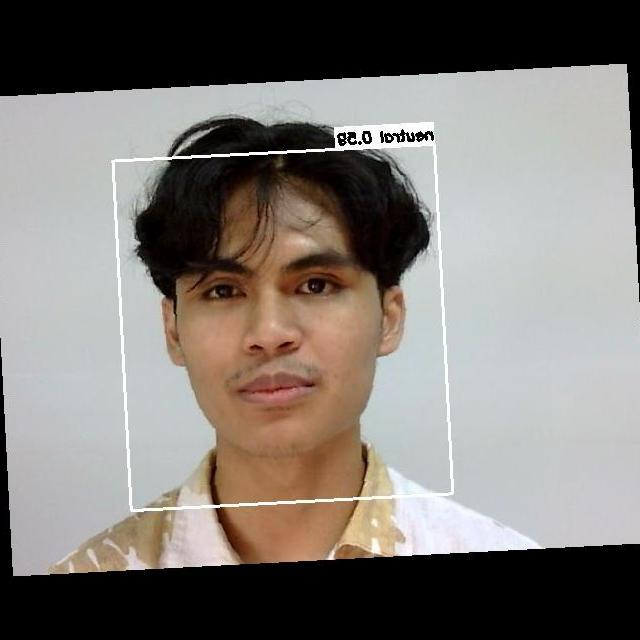Natural: (172, 221, 386, 436)
